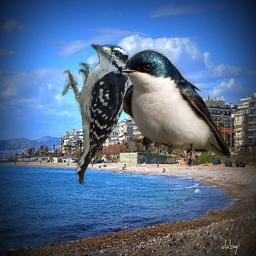Swallow: (122, 49, 234, 167)
Woodpecker: (62, 42, 138, 184)
